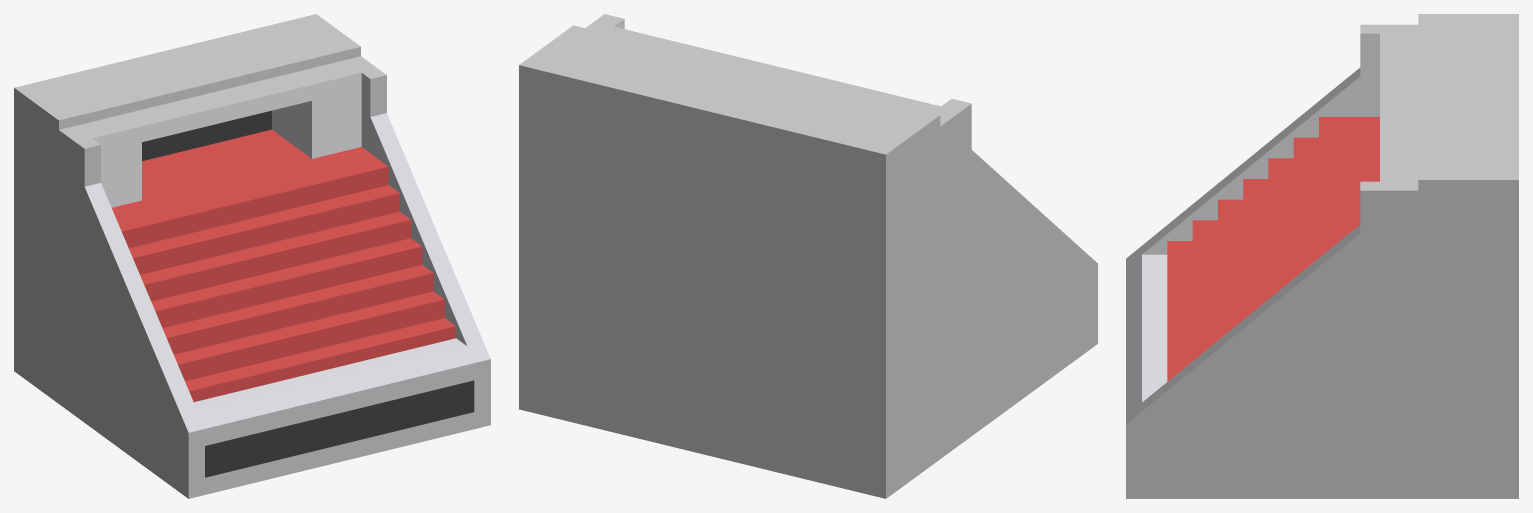
File: grandStand.glb
3 views of the same model, side by side, from view 1: azimuth 30°, elevation 25°; view 2: azimuth 150°, elevation 25°; view 3: azimuth 270°, elevation 25° (orthographic). The views are drawn at different scales.
Parts seen in each view (by area): view 1: grandStand; view 2: grandStand; view 3: grandStand.
Part boxes in pixels (<box>): grandStand: <box>14,14,490,498</box>; grandStand: <box>519,14,1097,498</box>; grandStand: <box>1126,14,1518,498</box>.
Size of the model in its own units: 1 by 0.8963 by 1.
